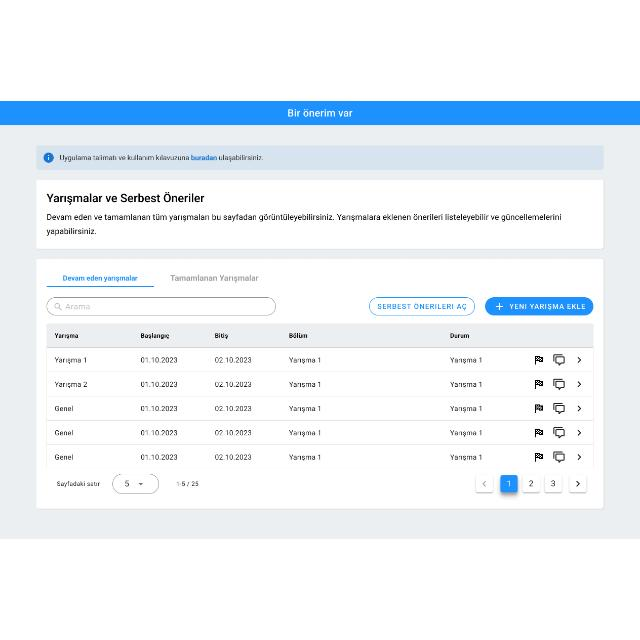QLabel: (44, 212, 562, 235), (44, 192, 206, 204), (59, 154, 189, 162), (168, 274, 262, 284), (284, 107, 354, 119), (509, 302, 587, 312), (375, 303, 467, 311), (60, 274, 140, 282), (218, 154, 264, 162), (190, 154, 218, 162)
VAlert: (36, 146, 604, 170)
VAppBar: (0, 101, 640, 125)
VBtn: (370, 296, 474, 316), (486, 298, 594, 316)
VCard: (36, 258, 604, 510), (36, 179, 604, 249)
VDataTable: (46, 324, 594, 496)
VIcon: (42, 152, 54, 162), (495, 303, 503, 311)
VTabs: (41, 264, 602, 506)
VTextField: (47, 298, 276, 316)
